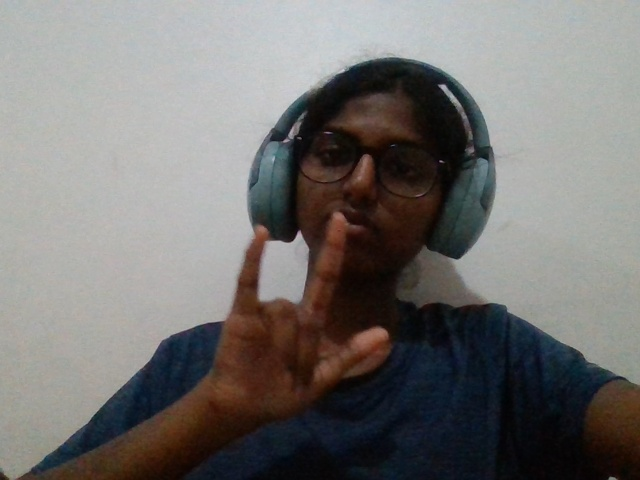I Love You: (168, 186, 438, 480)
